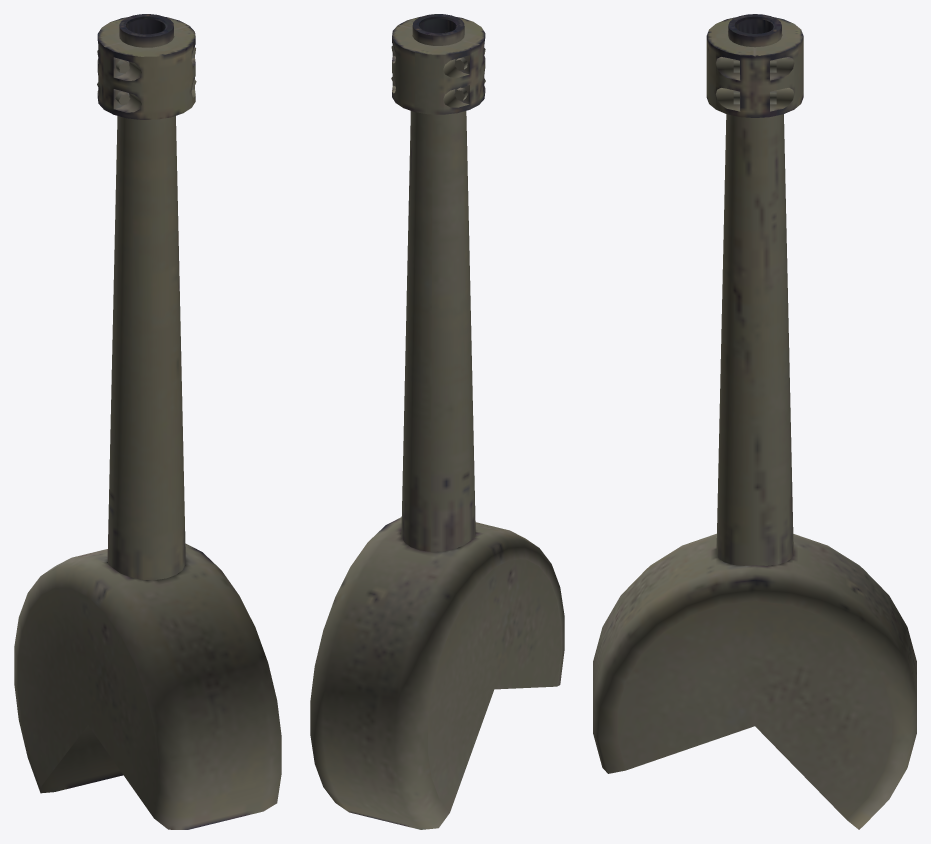
File: Gun_02.glb
The picture shows the model from 3 angles, left to right: view 1: azimuth 30°, elevation 25°; view 2: azimuth 150°, elevation 25°; view 3: azimuth 270°, elevation 25°; orthographic projection. The views are drawn at different scales.
Parts seen in each view (by area): view 1: set_0_group_0; view 2: set_0_group_0; view 3: set_0_group_0.
Boxes of the visible parts, x1,y1,x2,y2 form: set_0_group_0: [14, 14, 281, 829]; set_0_group_0: [310, 14, 564, 829]; set_0_group_0: [593, 14, 916, 829].
Bounding box in the file's own units: 0.272 × 1.73 × 0.6497.
Materials: 1 (1 with a texture image).
